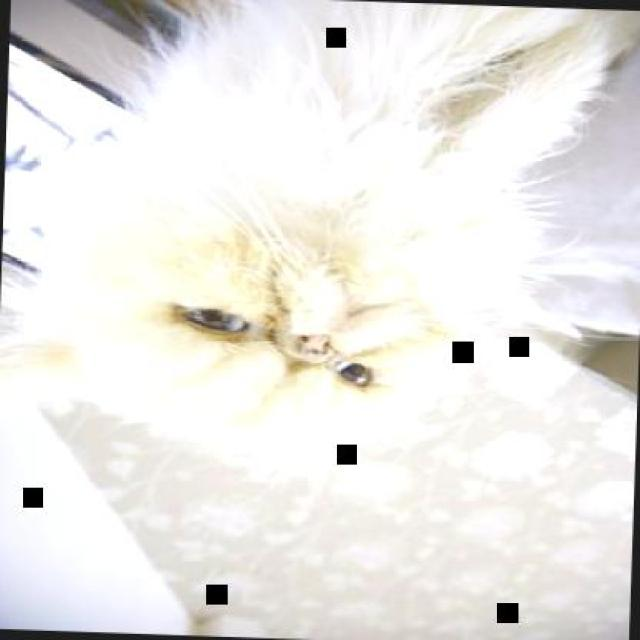cat: (0, 0, 638, 486)
